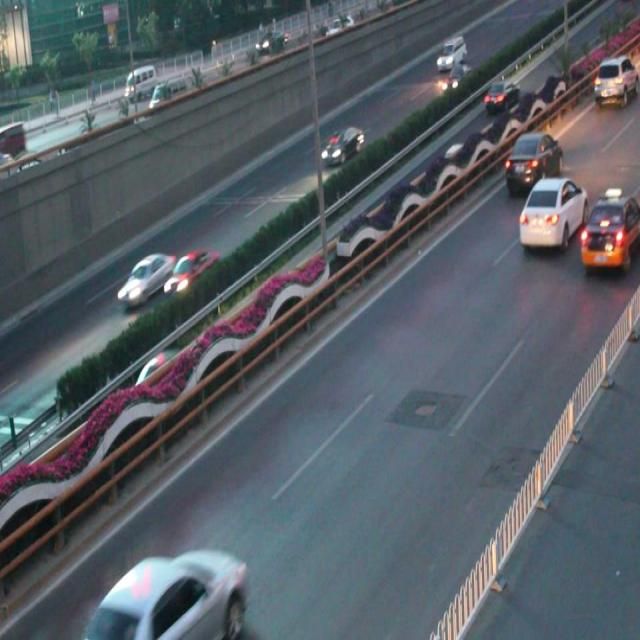car: (82, 545, 248, 640), (518, 176, 585, 249), (580, 190, 640, 270), (504, 132, 563, 190), (117, 253, 173, 304), (164, 245, 219, 294), (133, 345, 181, 389), (321, 126, 363, 166), (482, 78, 519, 113)
